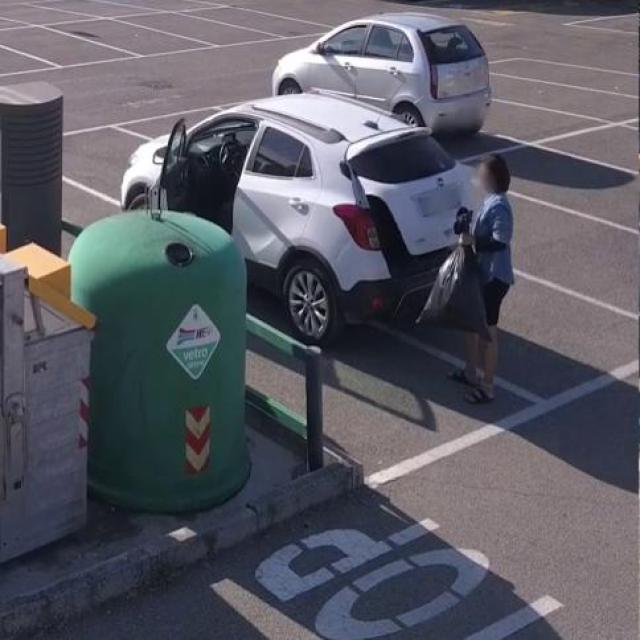Anorganik: (412, 209, 492, 347)
